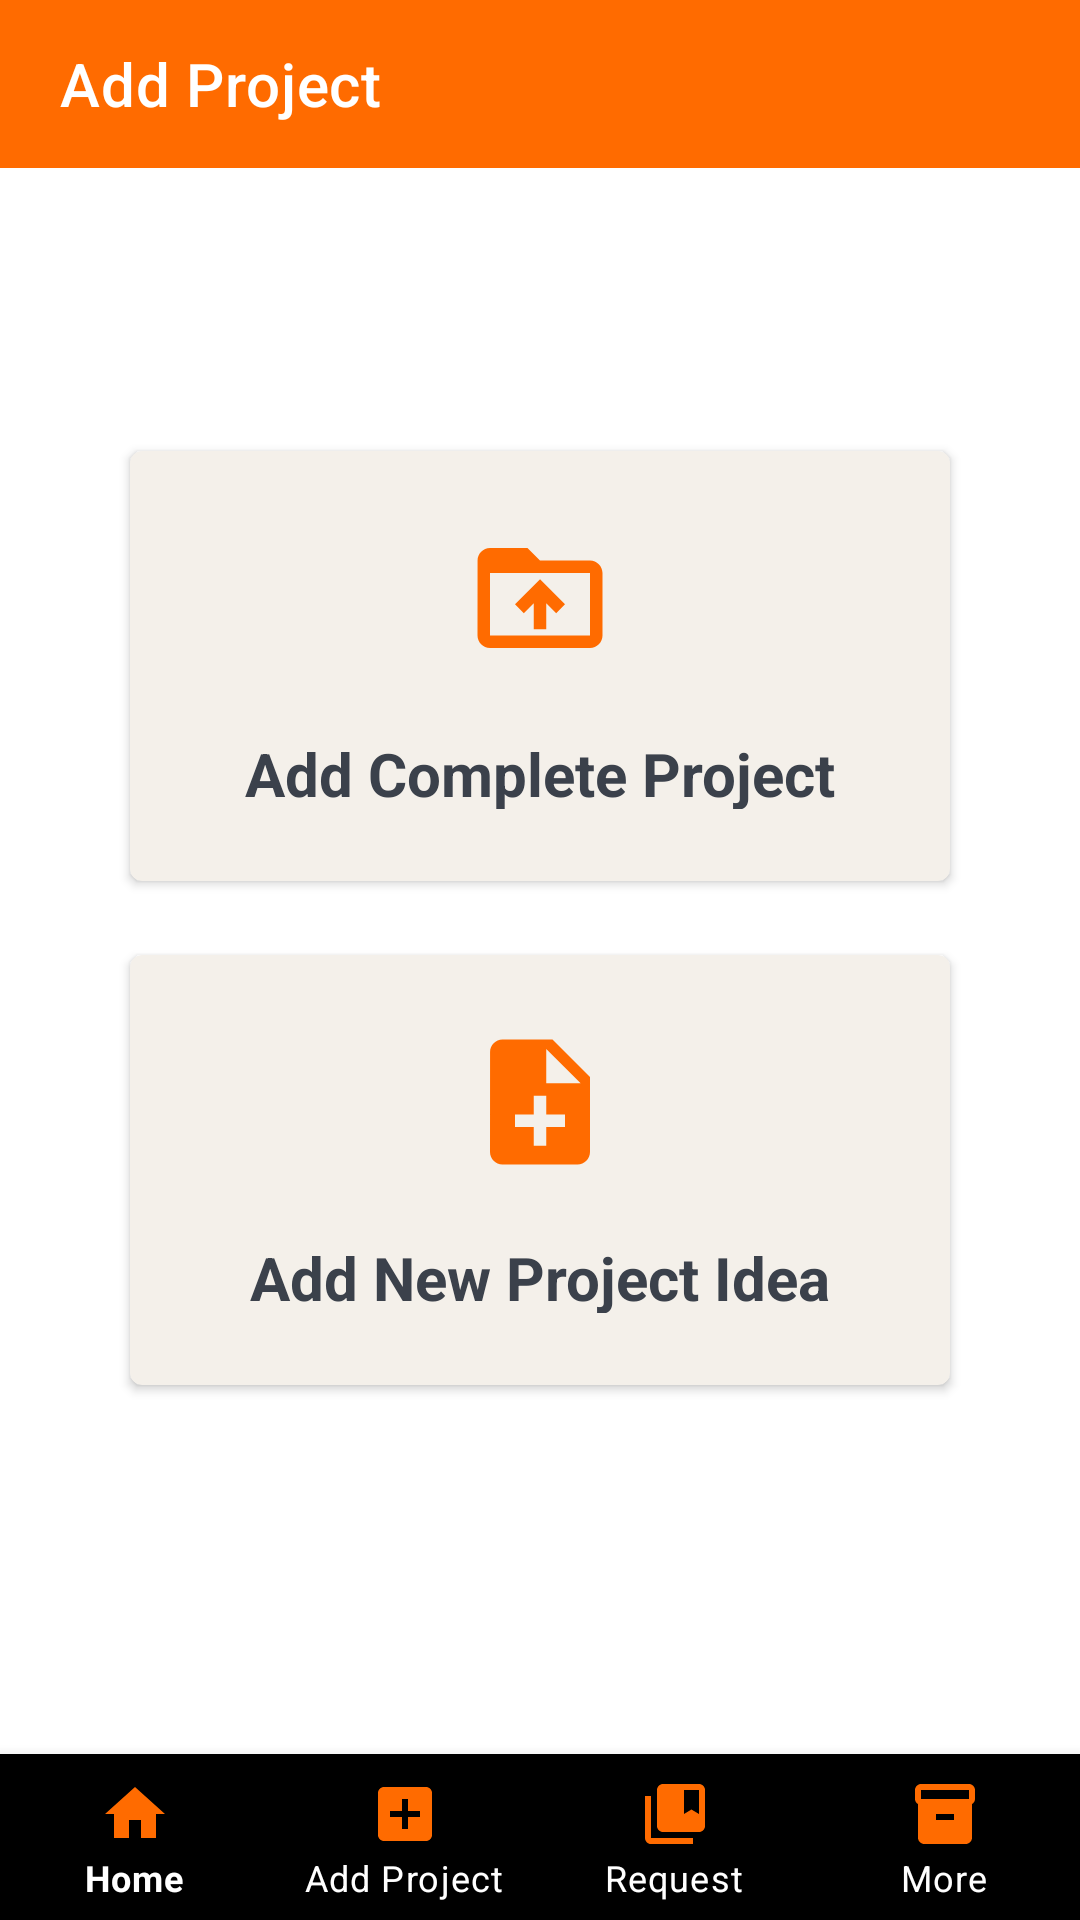

Named icons in this screenshot (1080 × 1920) and their centers, point (x, y):
addidea: point (540, 1102)
